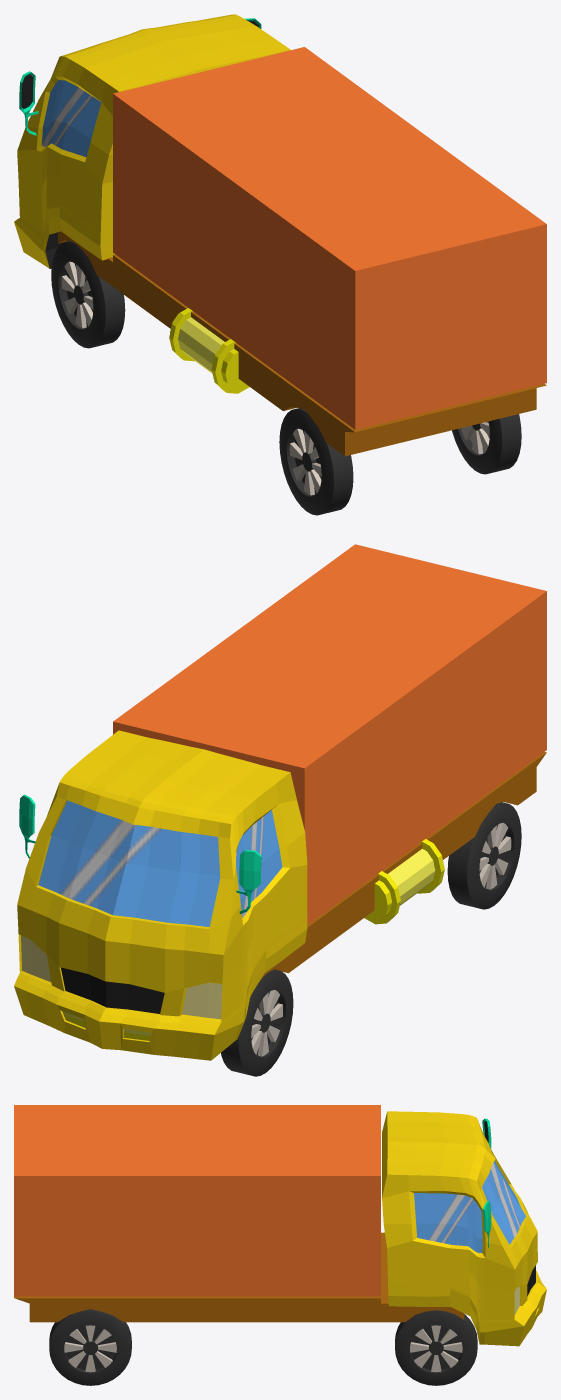
The model's file is Lorry2.fbx.
3 views of the same model, one above another, from view 1: azimuth 30°, elevation 25°; view 2: azimuth 150°, elevation 25°; view 3: azimuth 270°, elevation 25° (orthographic). The views are drawn at different scales.
Parts seen in each view (by area): view 1: Trailer, Lorry, Lorry_Tyre2, Lorry_Tyre4, Lorry_Tyre1; view 2: Lorry, Trailer, Lorry_Tyre2, Lorry_Tyre4; view 3: Trailer, Lorry, Lorry_Tyre1, Lorry_Tyre3.
Boxes of the visible parts, x1,y1,x2,y2 form: Trailer: (113, 47, 546, 429); Lorry: (14, 14, 546, 456); Lorry_Tyre2: (279, 408, 353, 515); Lorry_Tyre4: (51, 241, 125, 348); Lorry_Tyre1: (452, 414, 521, 474); Lorry: (14, 730, 546, 1060); Trailer: (113, 544, 546, 924); Lorry_Tyre2: (447, 802, 521, 909); Lorry_Tyre4: (221, 969, 293, 1076); Trailer: (14, 1105, 380, 1296); Lorry: (14, 1111, 546, 1346); Lorry_Tyre1: (49, 1309, 131, 1385); Lorry_Tyre3: (395, 1310, 477, 1385).
Bounding box in the file's own units: 651 × 719 × 1648.
1 material, 1 textured.
